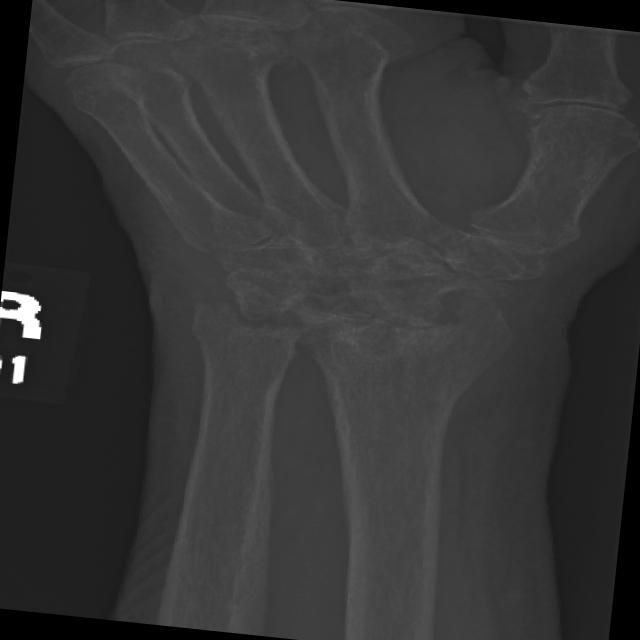wrist positive: (168, 290, 336, 362)
